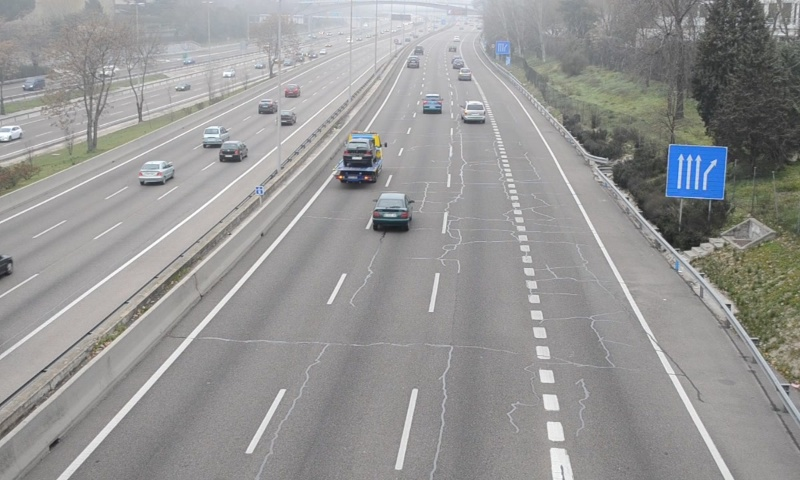car: (372, 193, 412, 226), (460, 100, 486, 122), (422, 94, 442, 112)
small-truck: (333, 132, 384, 184)
